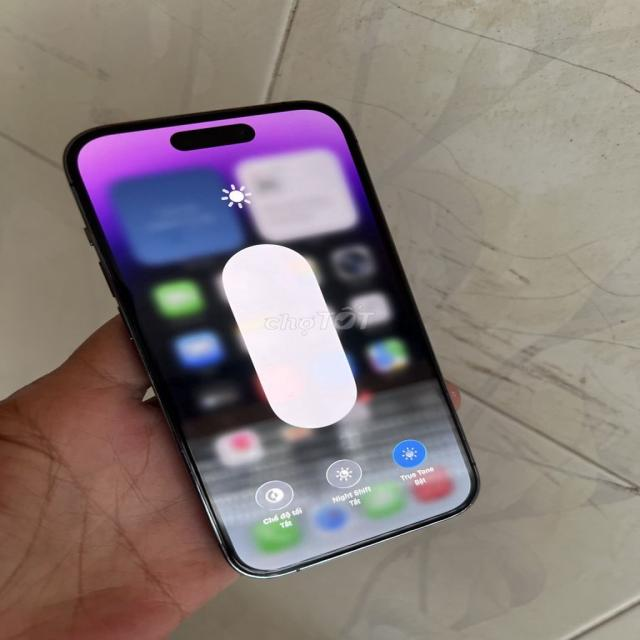gen_14: (52, 96, 480, 587)
